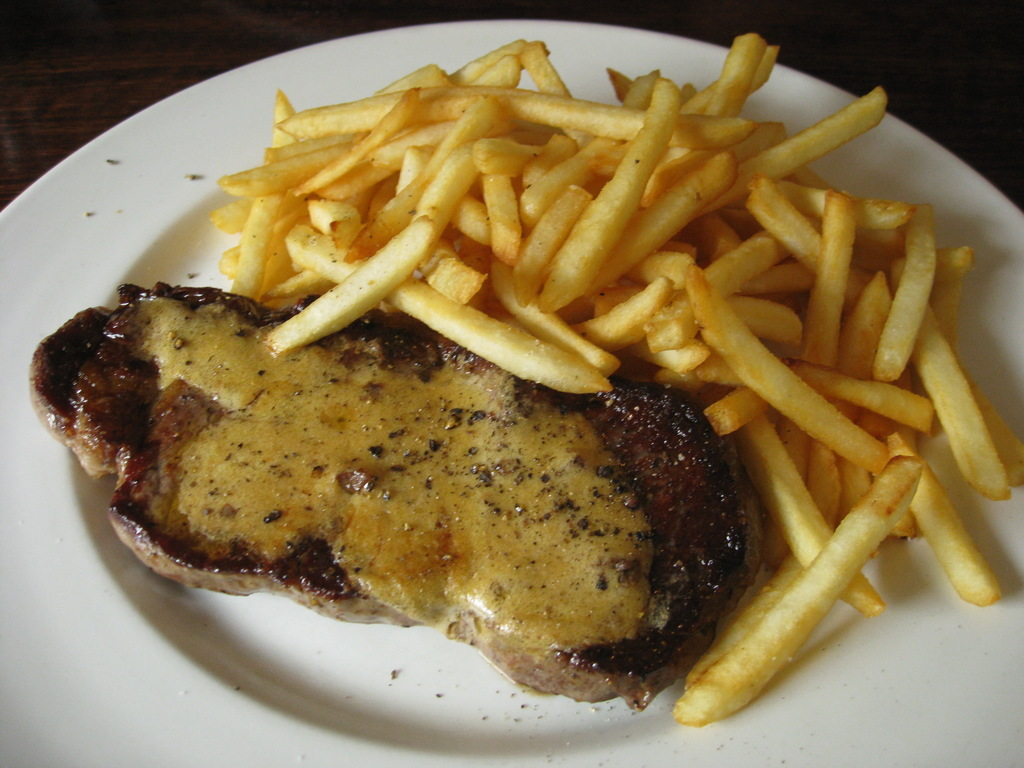French fries: (233, 18, 620, 402), (666, 453, 922, 731), (679, 430, 847, 705), (687, 260, 893, 472), (532, 76, 680, 312), (741, 402, 892, 625), (545, 151, 733, 309), (879, 254, 990, 508), (268, 87, 744, 145), (693, 80, 896, 213), (920, 239, 1023, 494), (873, 424, 1006, 612), (634, 227, 797, 350), (737, 174, 859, 311), (797, 188, 873, 366), (872, 193, 938, 380), (234, 90, 290, 304), (771, 360, 942, 428), (668, 38, 780, 127), (573, 279, 672, 349), (704, 29, 768, 117), (692, 380, 768, 435), (627, 334, 707, 374)
